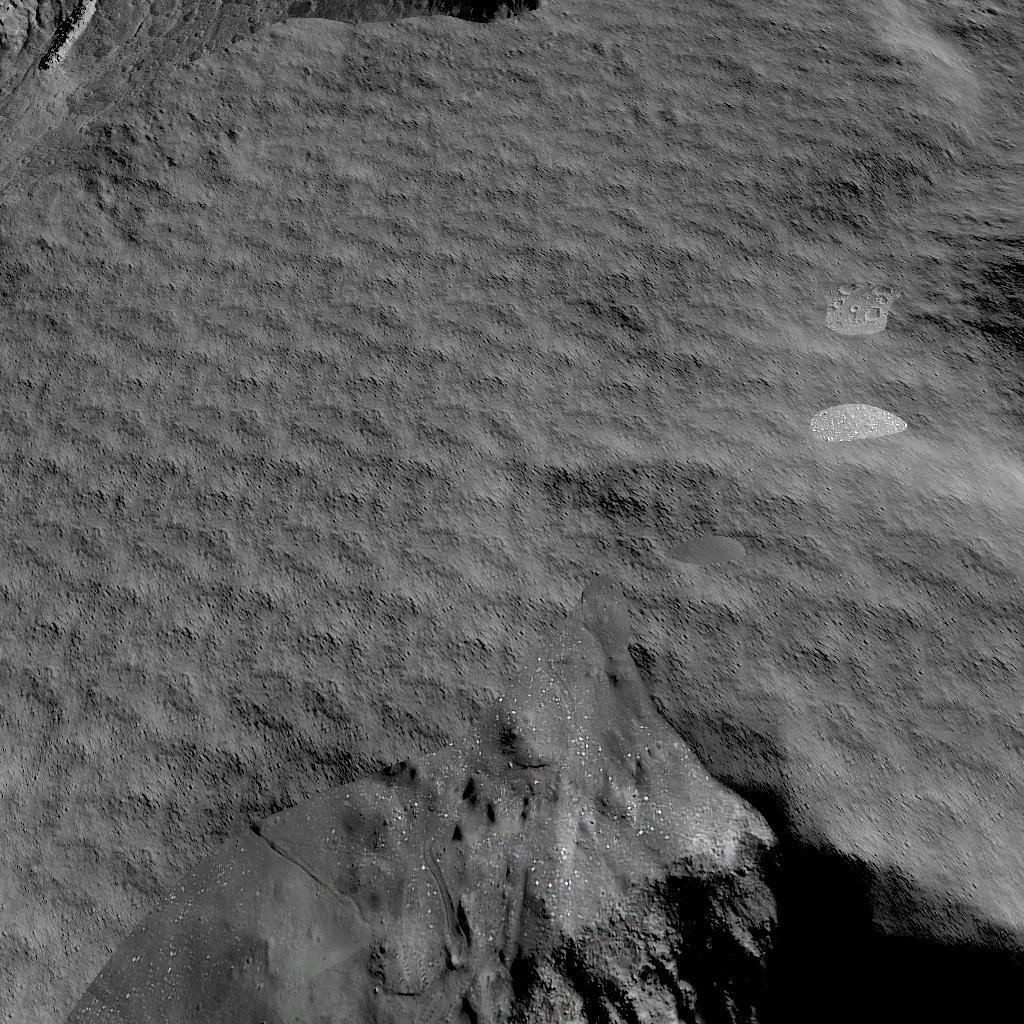Boulders: (0, 0, 538, 193)
Crater: (106, 755, 1024, 1024)
Plan surface: (0, 282, 1024, 742), (553, 0, 1024, 270)
